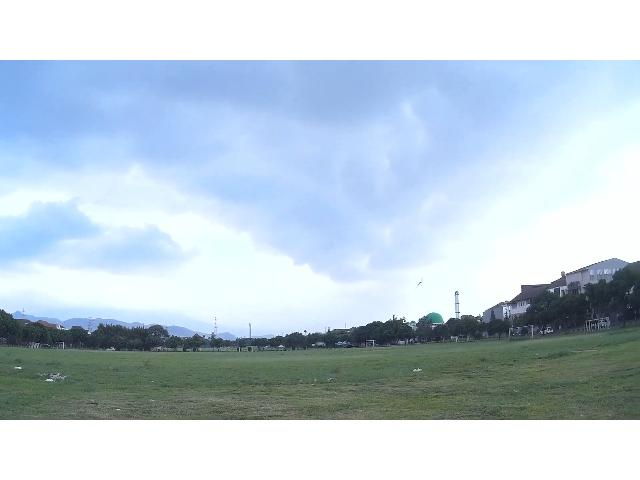Anti-Drone: (414, 278, 424, 289)
